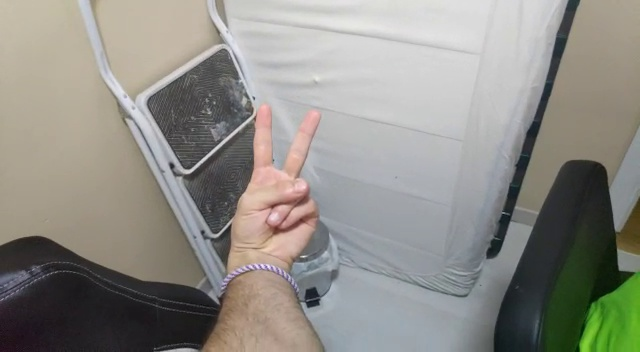Peace: (223, 102, 332, 257)
